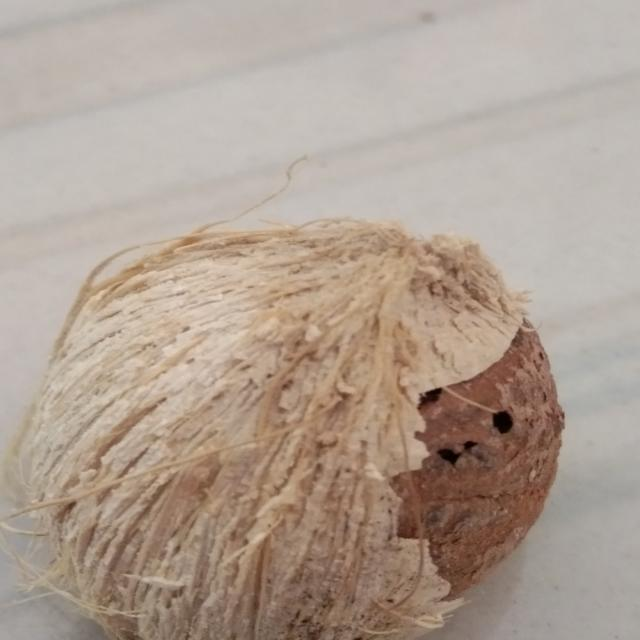phatora: (1, 191, 577, 640)
